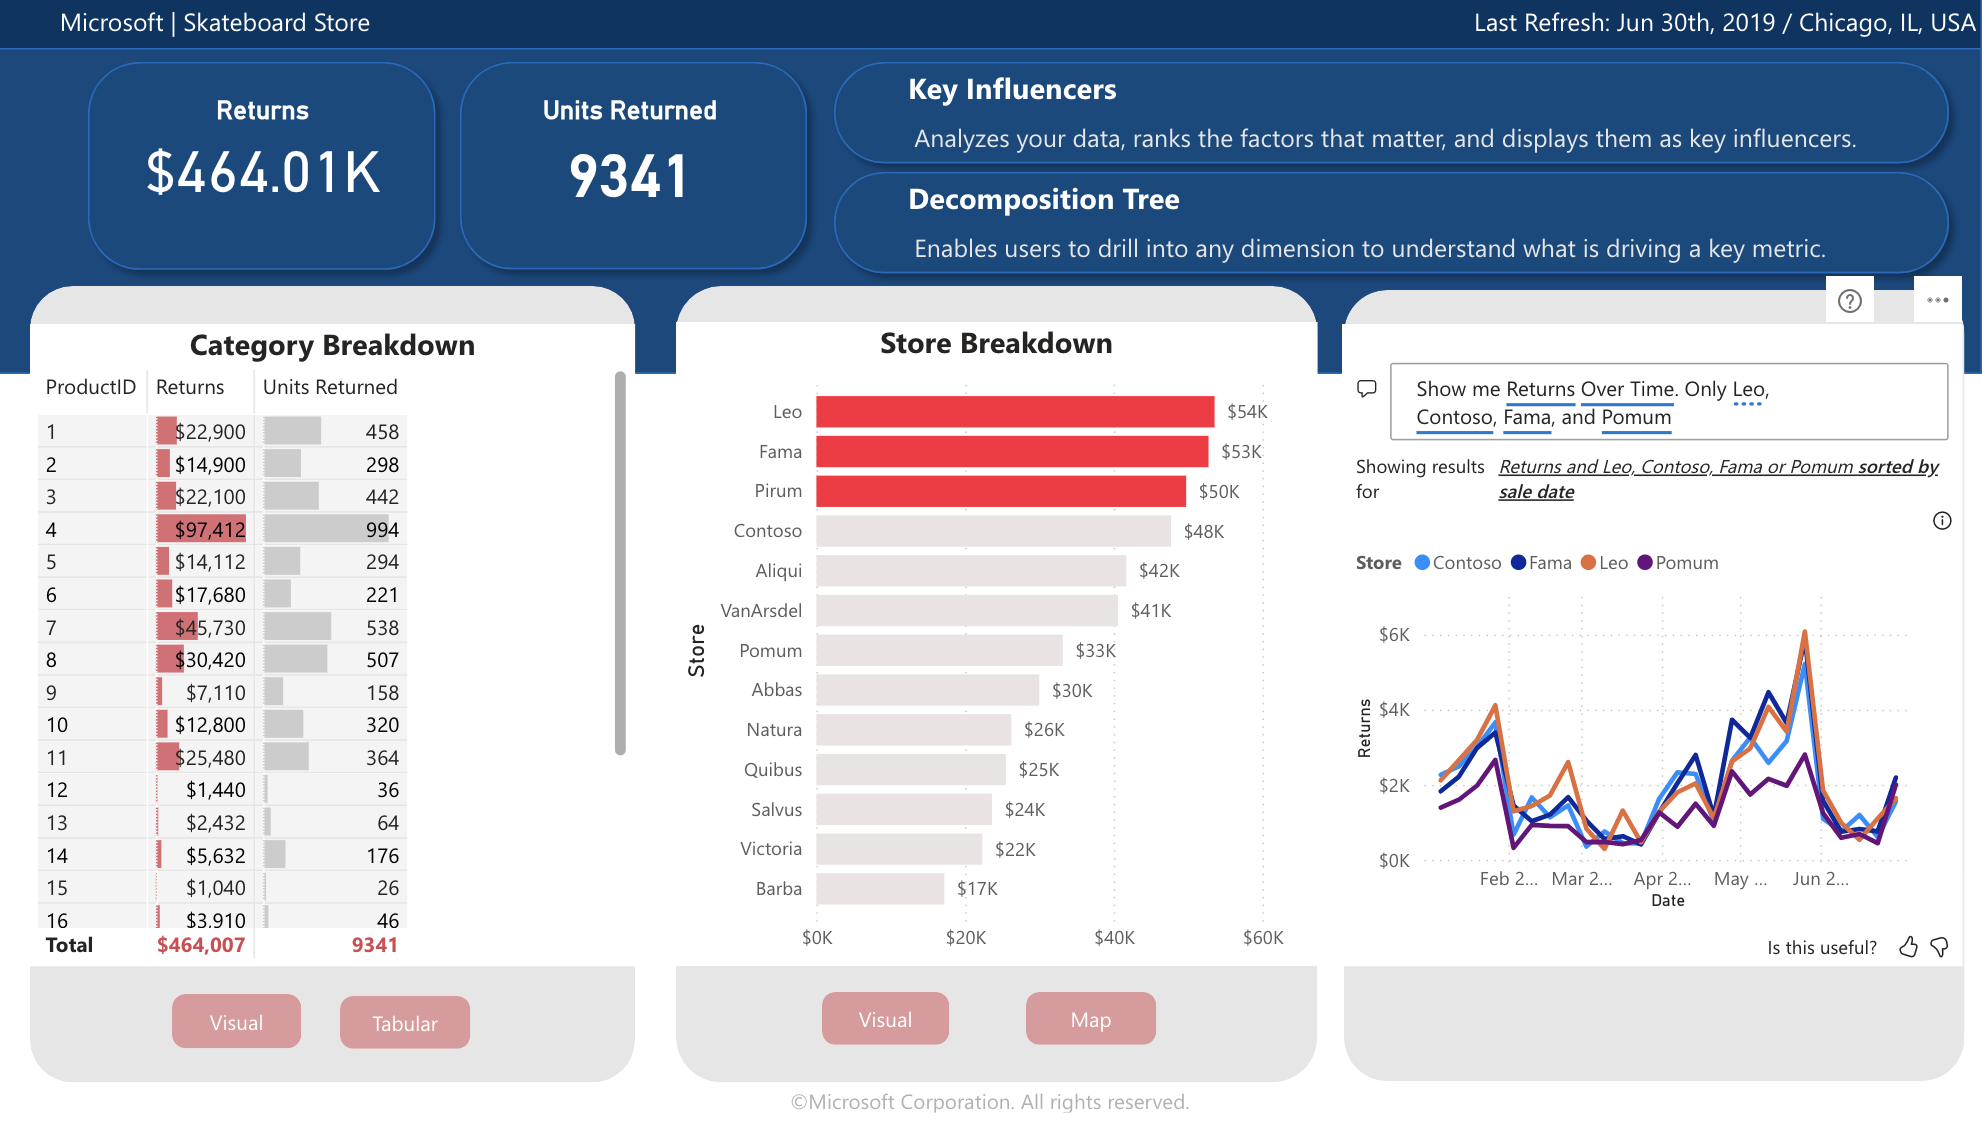

This screenshot's page, from the dashboard's own definition file:
{"tool":"powerbi","page":{"name":"Returns","canvas":[1280,720],"ordinal":1},"visuals":[{"type":"shape","box":[0,0,1280,210],"z":0},{"type":"shape","box":[0,33.3,1280,210],"z":1000},{"type":"actionButton","box":[0,698.9,1281.1,21.1],"z":2000},{"type":"shape","box":[50,34,242,152],"z":3000},{"type":"shape","box":[290,33.3,241.7,151.7],"z":4000},{"type":"shape","box":[531.7,33.3,736.7,83.3],"z":5000},{"type":"shape","box":[531.7,105,736.7,83.3],"z":6000},{"type":"textbox","box":[36.7,0,513.3,33.3],"z":7000},{"type":"textbox","box":[820,0,461.7,33.3],"z":8000},{"type":"shape","box":[21.7,186.7,390,513.3],"z":9000},{"type":"shape","box":[438.3,186.7,413.3,513.3],"z":10000},{"type":"shape","box":[868.3,190,400,510],"z":11000},{"type":"barChart","title":"Category Breakdown","fields":{"Category":["Product.Product","Product.Category","Product.Segment"],"Y":["AnalysisMeasure.Returns"]},"box":[21.7,210,390,415],"z":12000},{"type":"actionButton","box":[113.3,643.3,83.3,35],"z":14000},{"type":"actionButton","box":[222,644,84,34],"z":15000},{"type":"barChart","title":"Store Breakdown","fields":{"Category":["Store.Store"],"Y":["AnalysisMeasure.Returns"]},"box":[438.3,210,413.3,415],"z":16000},{"type":"qnaVisual","box":[868,212,400,414],"z":17000},{"type":"card","title":"Returns","fields":{"Values":["AnalysisMeasure.Returns"]},"box":[80,66,184,72],"z":18000},{"type":"card","title":"Units Returned","fields":{"Values":["AnalysisMeasure.Units Returned"]},"box":[320,66,178,78],"z":19000},{"type":"actionButton","title":"Key Influencers","box":[588.3,46.7,691.7,55],"z":20000},{"type":"actionButton","title":"Decomposition Tree","box":[588.3,116.7,691.7,55],"z":21000},{"type":"actionButton","box":[664,642,84,34],"z":22000},{"type":"actionButton","box":[532,642,82,34],"z":23000}]}

Visuals, with their boxes in screenshot pixels (x1, y1, x2, y2), scaled from the page's 1280x720 canvas onto the 1982x1126 screenshot:
shape: pyautogui.locateOnScreen(0, 0, 1981, 328)
shape: pyautogui.locateOnScreen(0, 52, 1981, 380)
actionButton: pyautogui.locateOnScreen(0, 1093, 1981, 1125)
shape: pyautogui.locateOnScreen(77, 53, 452, 291)
shape: pyautogui.locateOnScreen(449, 52, 823, 289)
shape: pyautogui.locateOnScreen(823, 52, 1964, 182)
shape: pyautogui.locateOnScreen(823, 164, 1964, 294)
textbox: pyautogui.locateOnScreen(57, 0, 852, 52)
textbox: pyautogui.locateOnScreen(1270, 0, 1981, 52)
shape: pyautogui.locateOnScreen(34, 292, 637, 1095)
shape: pyautogui.locateOnScreen(679, 292, 1319, 1095)
shape: pyautogui.locateOnScreen(1345, 297, 1964, 1095)
"Category Breakdown" barChart: pyautogui.locateOnScreen(34, 328, 637, 977)
actionButton: pyautogui.locateOnScreen(175, 1006, 304, 1061)
actionButton: pyautogui.locateOnScreen(344, 1007, 474, 1060)
"Store Breakdown" barChart: pyautogui.locateOnScreen(679, 328, 1319, 977)
qnaVisual: pyautogui.locateOnScreen(1344, 332, 1963, 979)
"Returns" card: pyautogui.locateOnScreen(124, 103, 409, 216)
"Units Returned" card: pyautogui.locateOnScreen(496, 103, 771, 225)
"Key Influencers" actionButton: pyautogui.locateOnScreen(911, 73, 1981, 159)
"Decomposition Tree" actionButton: pyautogui.locateOnScreen(911, 183, 1981, 269)
actionButton: pyautogui.locateOnScreen(1028, 1004, 1158, 1057)
actionButton: pyautogui.locateOnScreen(824, 1004, 951, 1057)
